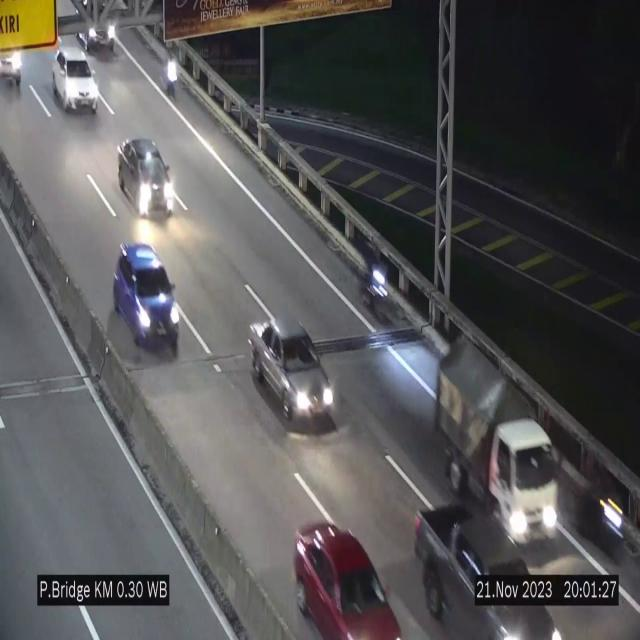Car: (412, 484, 560, 640), (287, 497, 413, 640), (248, 319, 338, 428), (113, 244, 179, 352), (113, 135, 176, 226), (52, 43, 98, 114), (0, 45, 34, 87)
Motorcycle: (578, 455, 625, 561), (359, 235, 394, 328), (159, 41, 179, 115)
Truck: (430, 328, 562, 551)
